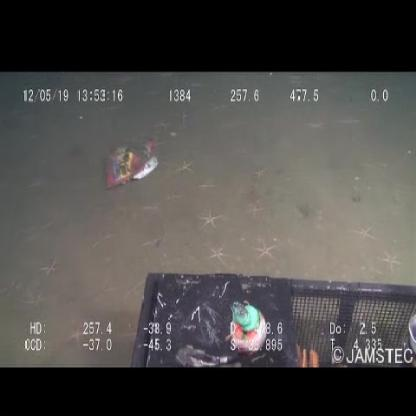Rov: (124, 262, 416, 367)
Rác: (101, 134, 162, 190)
